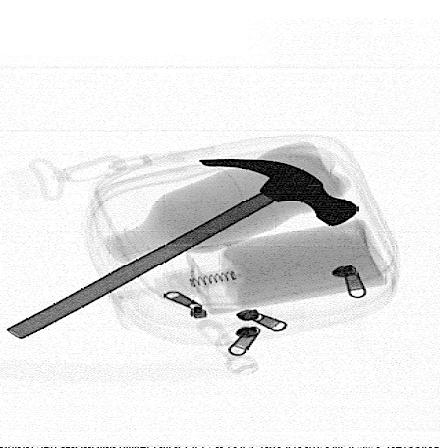Hammer: (6, 159, 358, 339)
